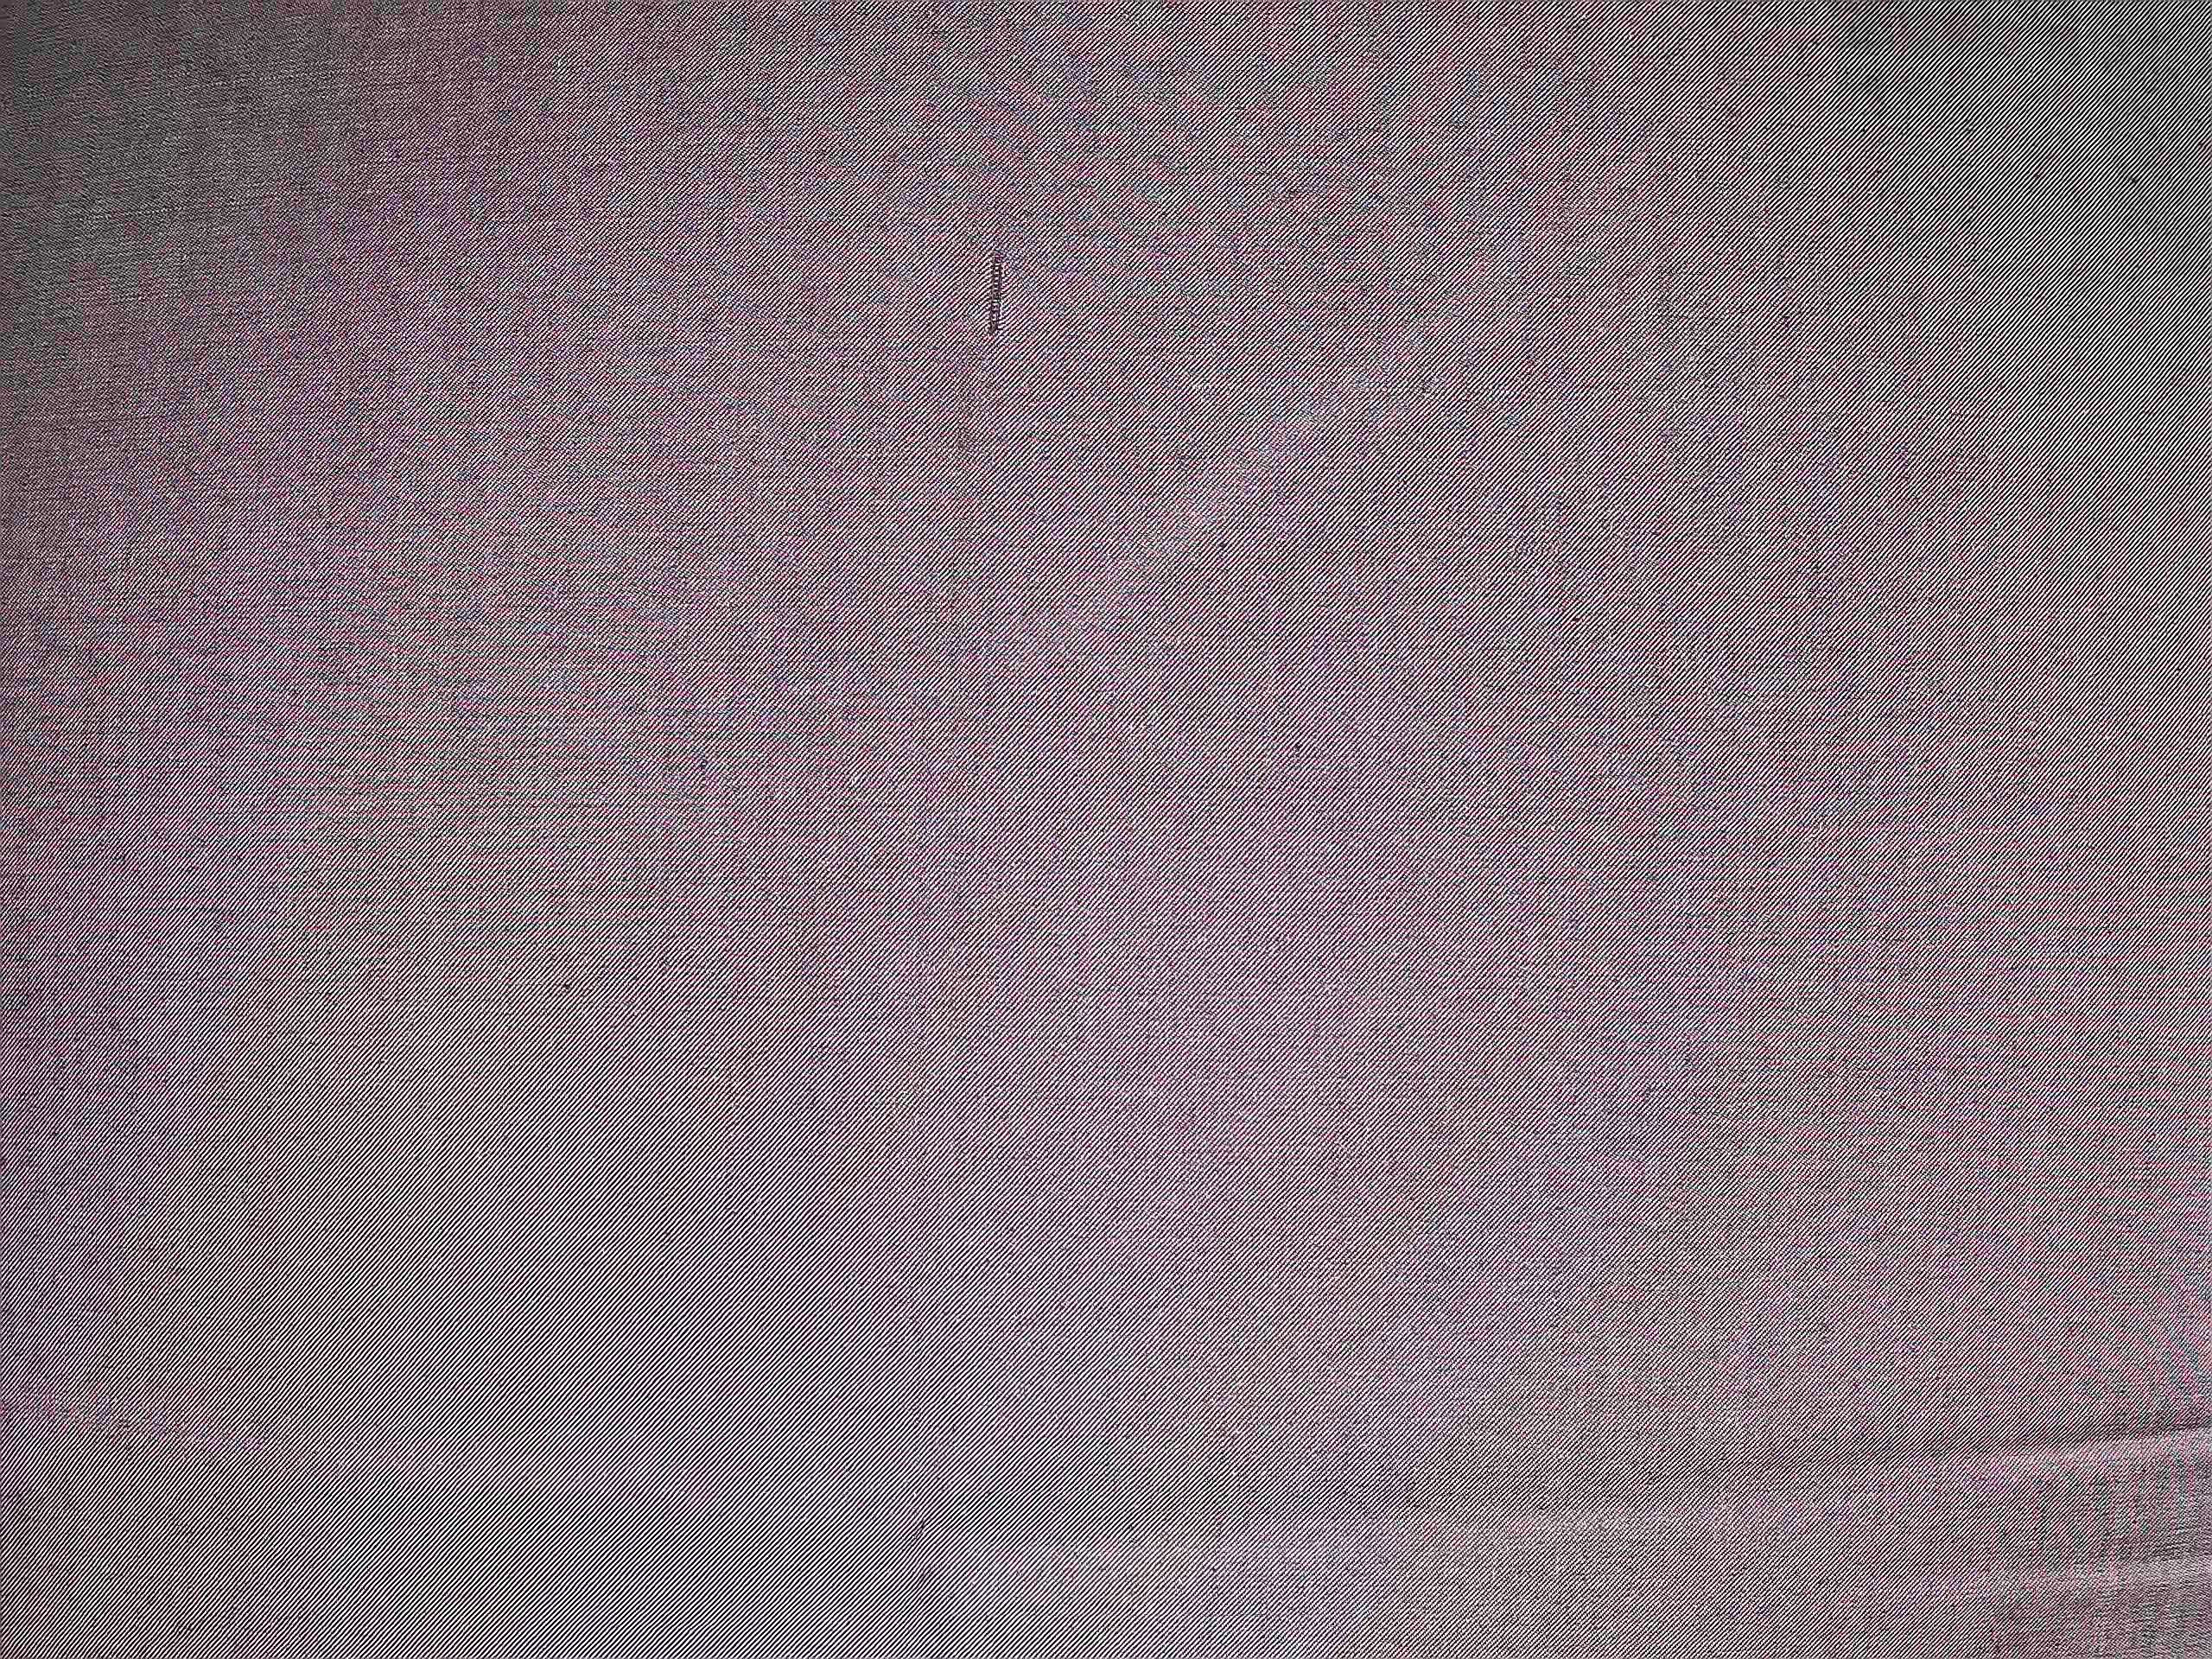thin-spinning: (963, 207, 1029, 369)
